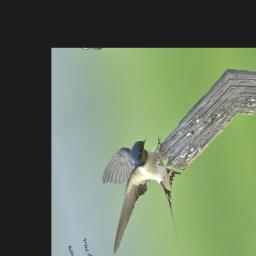Swallow: (91, 125, 193, 256)
